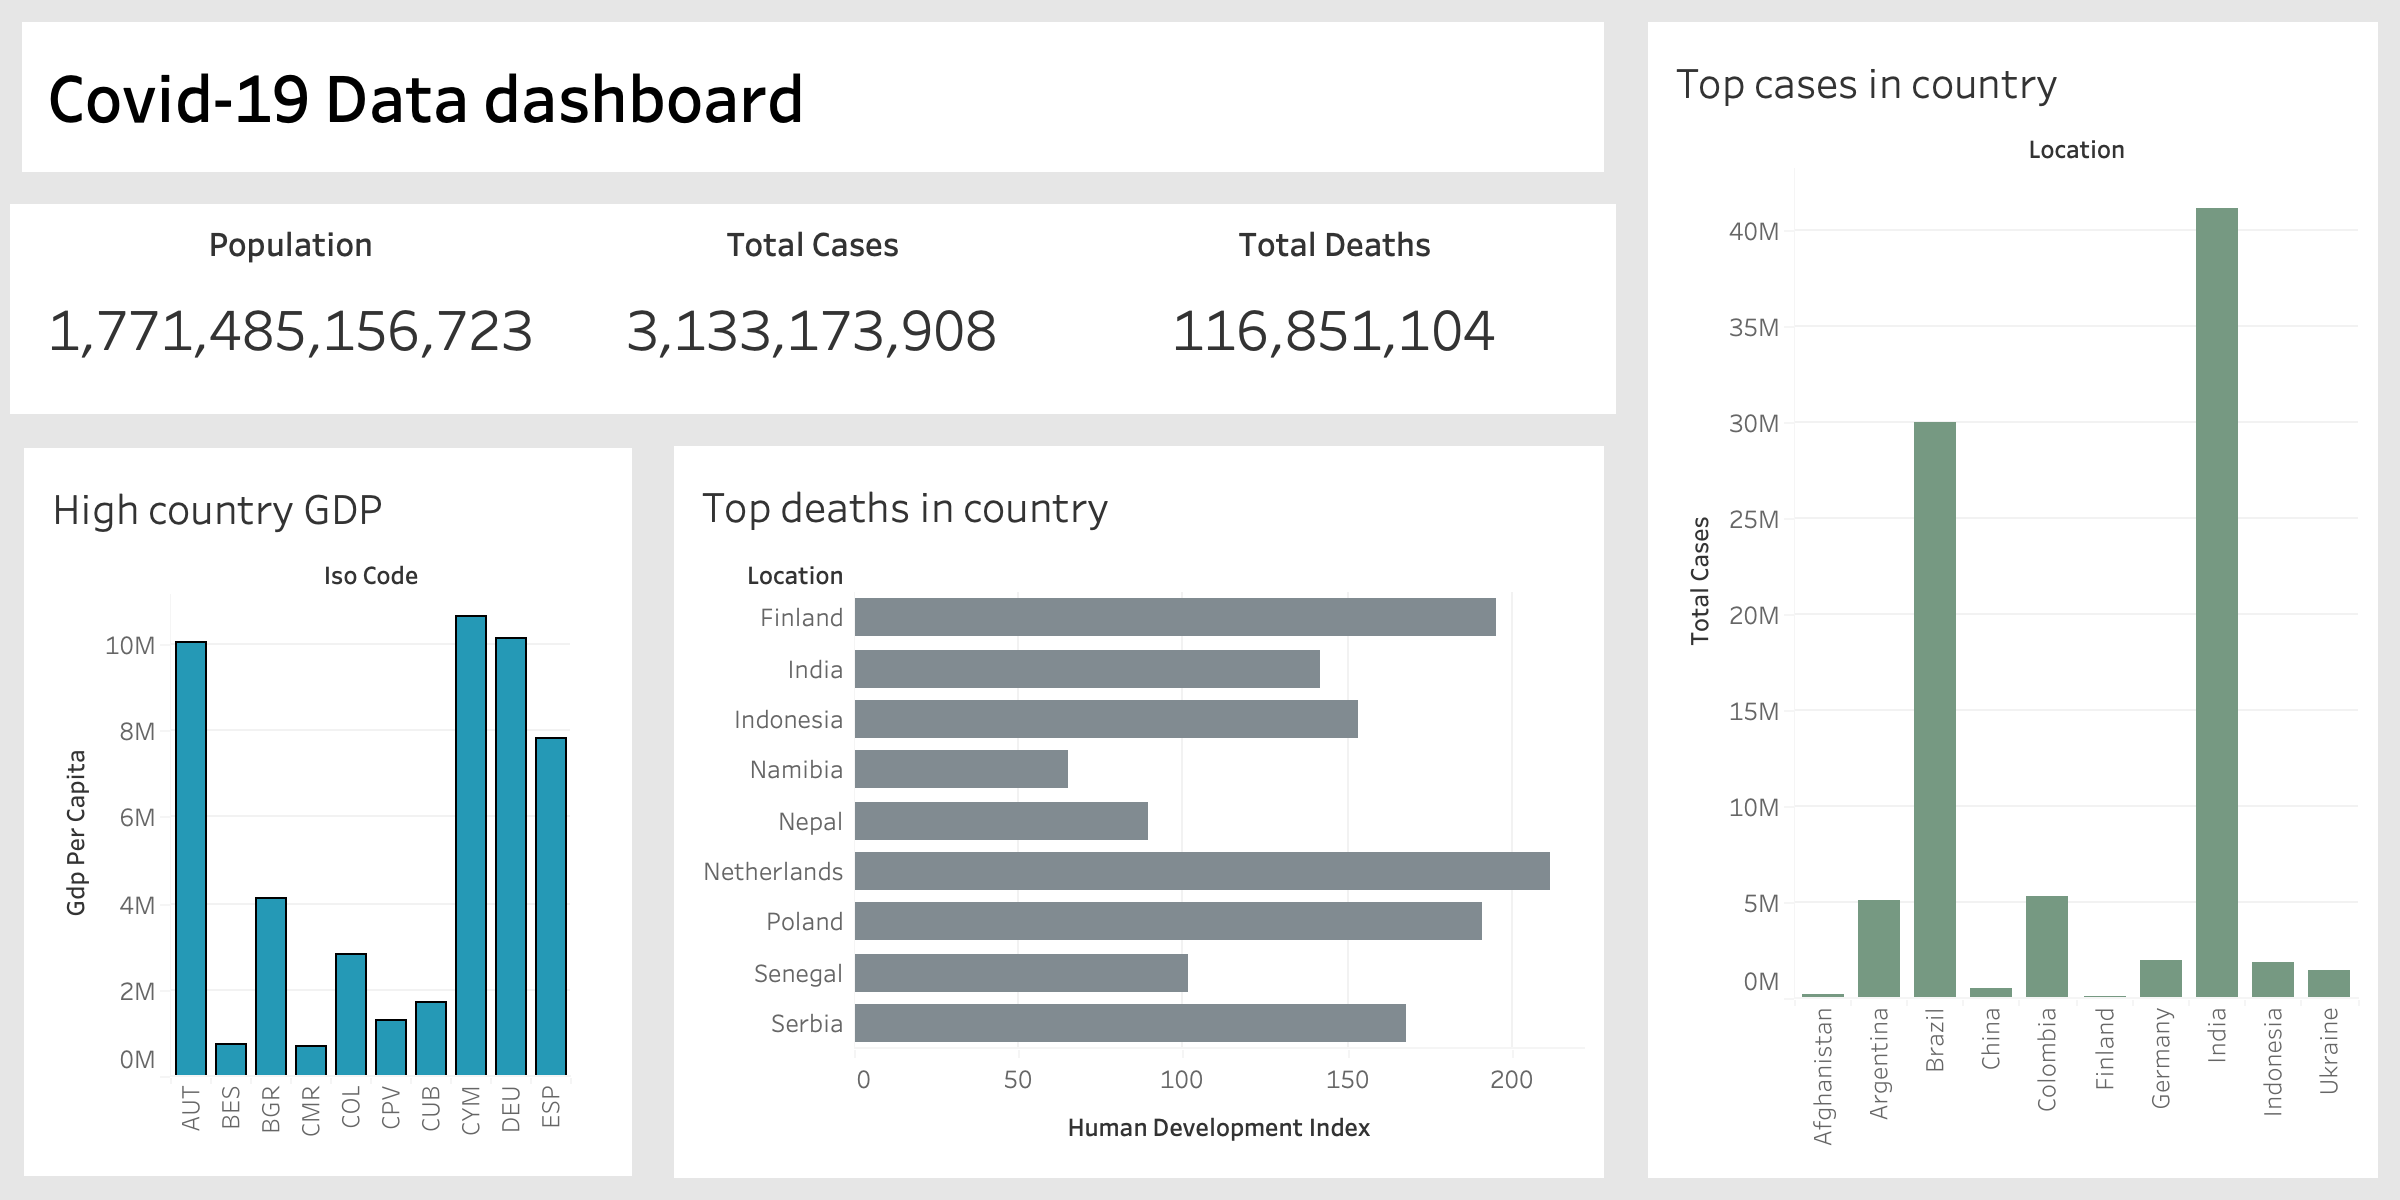

Layout of this report page (visuals, bound fields, positions):
{"tool":"tableau","page":{"name":"Dashboard 1","canvas":[1200,600],"ordinal":0},"visuals":[{"type":"text","box":[0,0,813,97]},{"type":"worksheet","title":"Top cases in country","mark":"Automatic","rows":["total_cases"],"cols":["location"],"box":[813,0,387,600]},{"type":"worksheet","title":"KPis","mark":"Automatic","box":[0,97,813,115]},{"type":"worksheet","title":"High country GDP","mark":"Automatic","rows":["gdp_per_capita"],"cols":["iso_code"],"box":[1,213,326,386]},{"type":"worksheet","title":"Top deaths in country","mark":"Bar","rows":["location"],"cols":["human_development_index"],"box":[327,213,485,386]}]}

Visuals, with their boxes in screenshot pixels (x1, y1, x2, y2), scaled from the page's 1200x600 canvas onto the 2400x1200 screenshot:
text: <box>0,0,1626,194</box>
"Top cases in country" worksheet: <box>1626,0,2399,1199</box>
"KPis" worksheet: <box>0,194,1626,424</box>
"High country GDP" worksheet: <box>2,426,654,1198</box>
"Top deaths in country" worksheet (Bar marks): <box>654,426,1624,1198</box>
